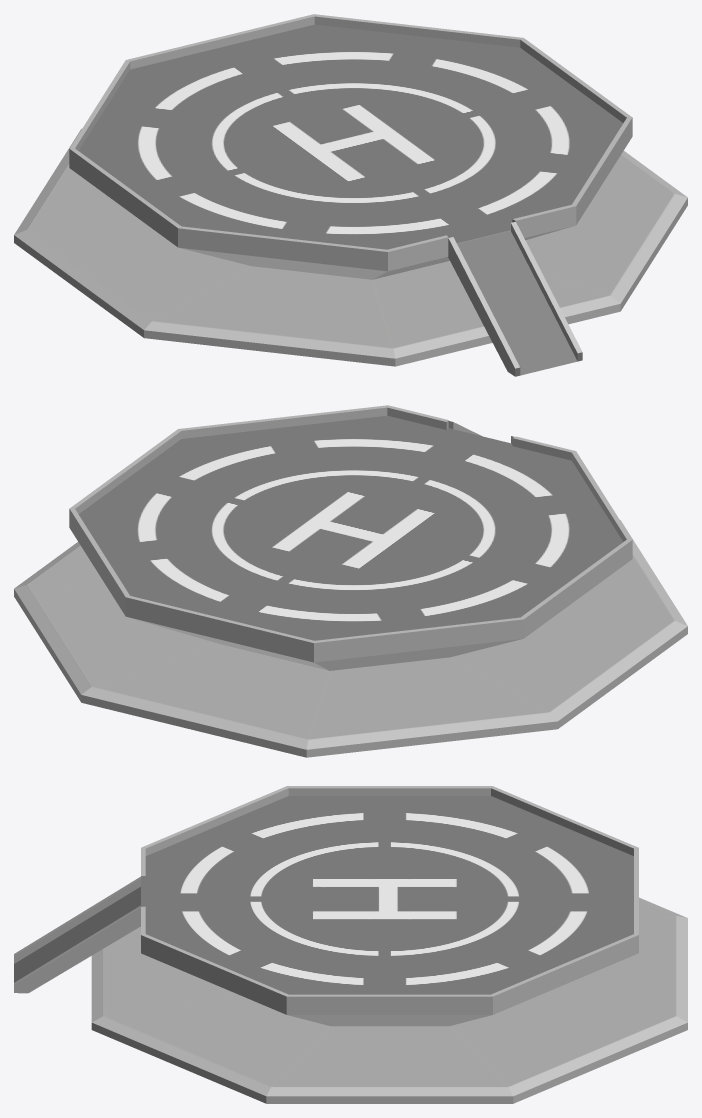
File: HeliPad.fbx
3 renders of one model, top to bottom at view 1: azimuth 30°, elevation 25°; view 2: azimuth 150°, elevation 25°; view 3: azimuth 270°, elevation 25°, orthographic. The views are drawn at different scales.
Visible parts, largest first — view 1: Helipad; view 2: Helipad; view 3: Helipad.
Part boxes in pixels (box(x1,y1,x2,y2)): Helipad: box(14, 14, 687, 376); Helipad: box(14, 405, 687, 757); Helipad: box(14, 786, 687, 1103).
Bounding box in the file's own units: 40.34 × 6.46 × 45.6.
